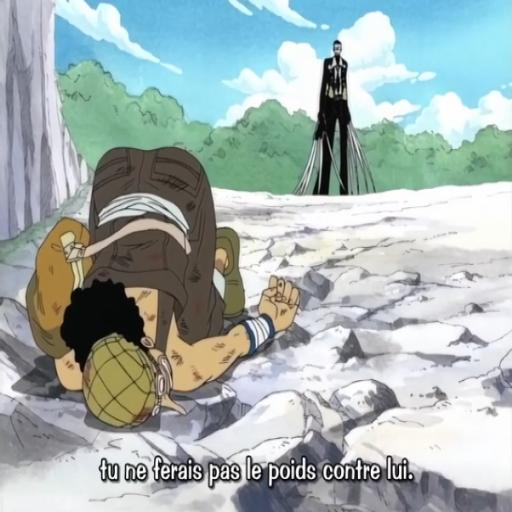Usopp: (20, 152, 301, 428)
